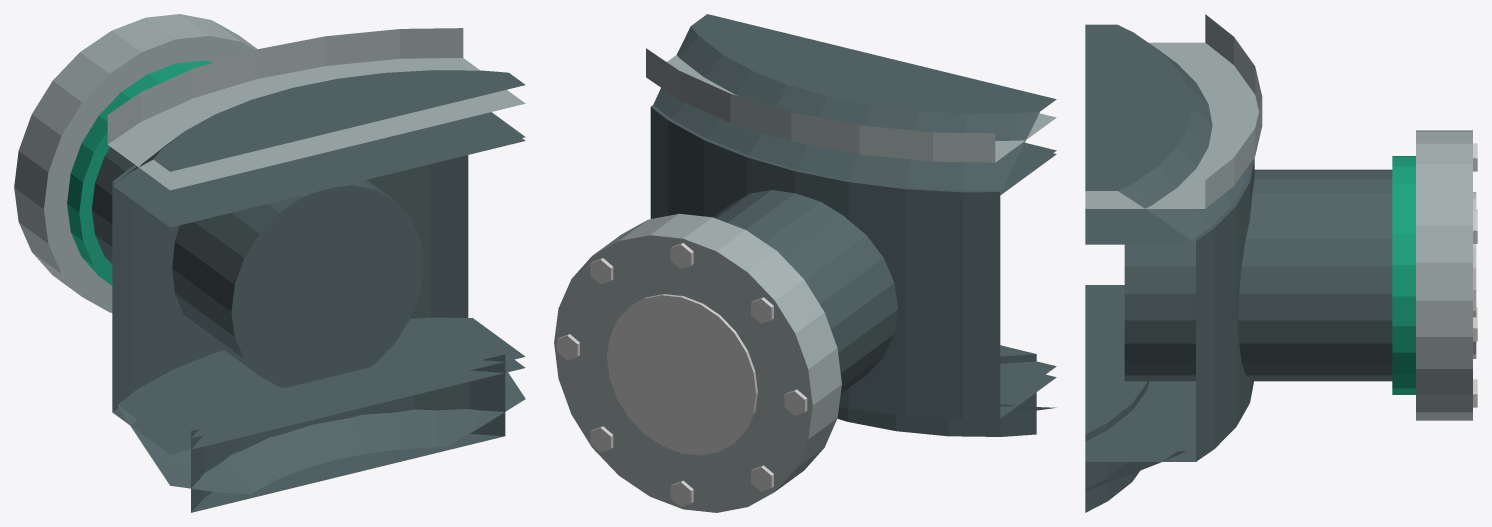
Rendered from cell_10.obj.
3 renders of one model, left to right at view 1: azimuth 30°, elevation 25°; view 2: azimuth 150°, elevation 25°; view 3: azimuth 270°, elevation 25°, orthographic. The views are drawn at different scales.
Size of the model in its own units: 1 by 0.96 by 0.997.
